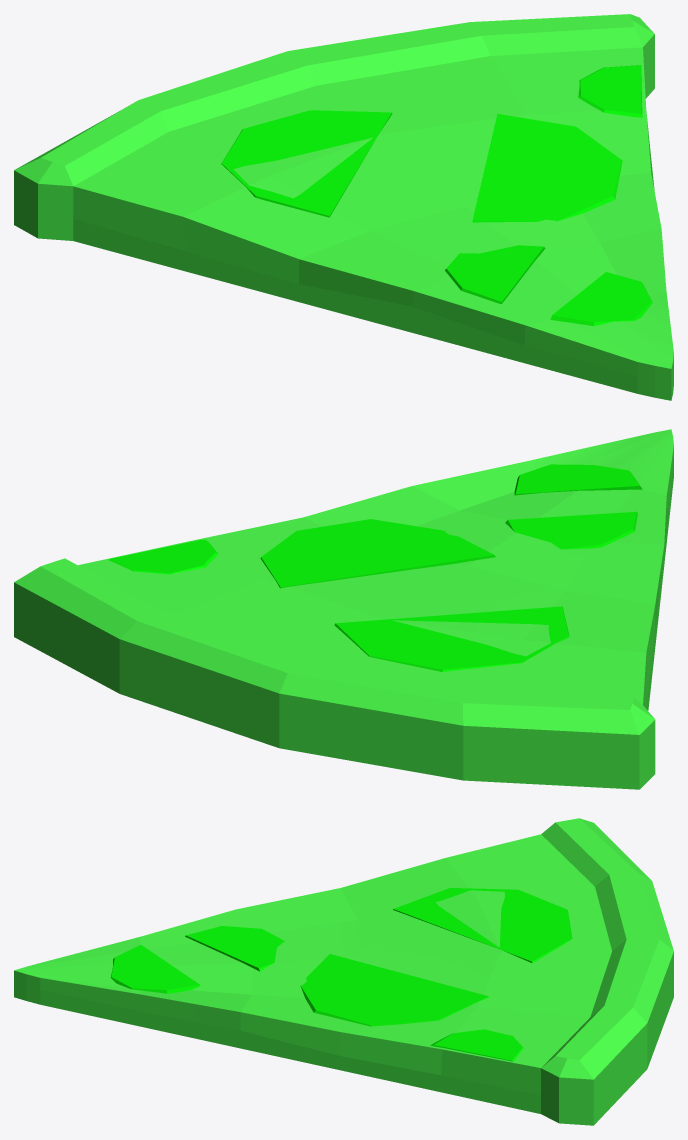
The model's file is GreenSlice.obj.
3 views of the same model, one above another, from view 1: azimuth 30°, elevation 25°; view 2: azimuth 150°, elevation 25°; view 3: azimuth 270°, elevation 25° (orthographic). The views are drawn at different scales.
Visible parts, largest first — view 1: Pizza_Slice_Cube.003; view 2: Pizza_Slice_Cube.003; view 3: Pizza_Slice_Cube.003.
Part boxes in pixels (x1,y1,x2,y2): Pizza_Slice_Cube.003: [14, 14, 673, 400]; Pizza_Slice_Cube.003: [14, 429, 673, 789]; Pizza_Slice_Cube.003: [14, 818, 673, 1125].
Size of the model in its own units: 1.07 by 0.1128 by 1.16.
